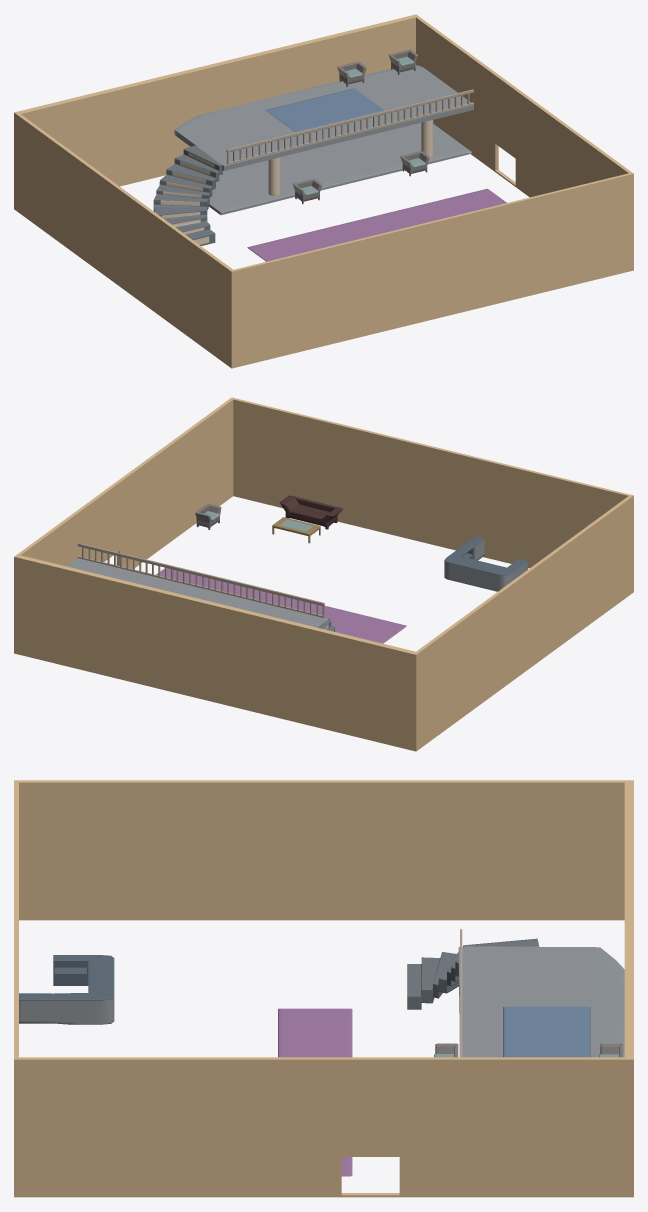
Rendered from Lobby_Structure.fbx.
The picture shows the model from 3 angles, top to bottom: view 1: azimuth 30°, elevation 25°; view 2: azimuth 150°, elevation 25°; view 3: azimuth 270°, elevation 25°; orthographic projection. The views are drawn at different scales.
Parts seen in each view (by area): view 1: polySurface223; view 2: polySurface223; view 3: polySurface223.
Part boxes in pixels (x1,y1,x2,y2): polySurface223: [14, 14, 633, 368]; polySurface223: [14, 397, 633, 751]; polySurface223: [14, 780, 633, 1197].
Size of the model in its own units: 71.55 by 17.29 by 67.09.
